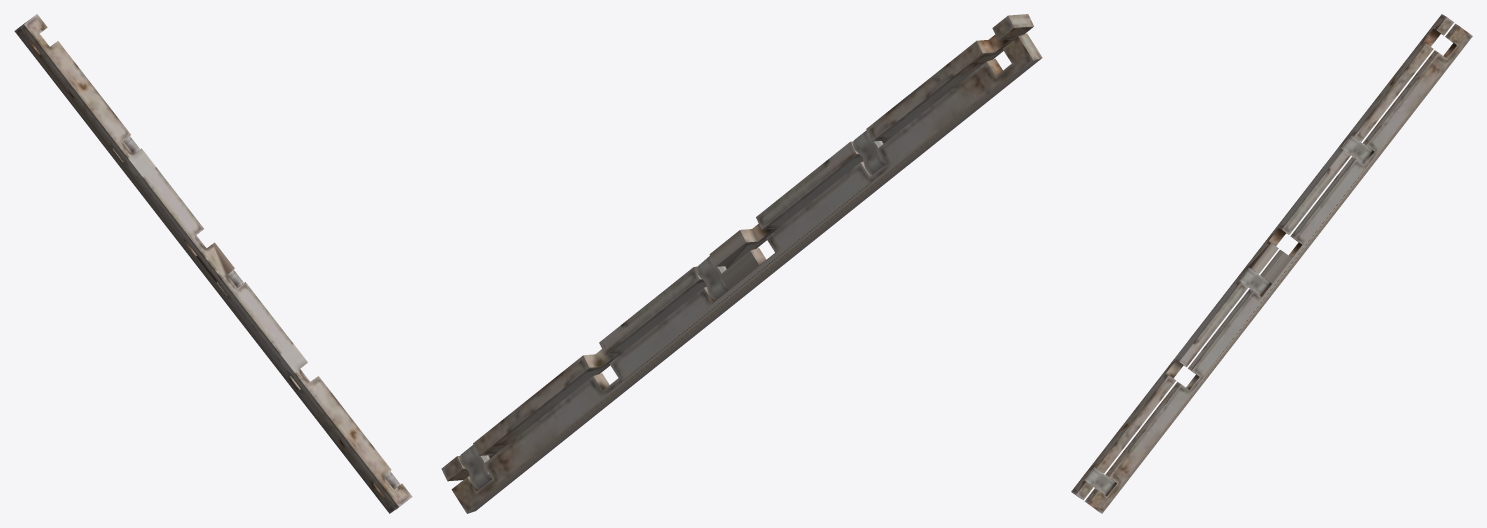
File: roof.triangle.container.up.right.line.glb
3 renders of one model, left to right at view 1: azimuth 30°, elevation 25°; view 2: azimuth 210°, elevation 25°; view 3: azimuth 270°, elevation 25°, orthographic. The views are drawn at different scales.
Visible parts, largest first — view 1: model; view 2: model; view 3: model.
Boxes of the visible parts, <box> form: model: <box>14,14,412,513</box>; model: <box>441,14,1042,513</box>; model: <box>1071,14,1472,513</box>.
Size of the model in its own units: 1.69 by 3.28 by 2.91.
1 material, 1 textured.
